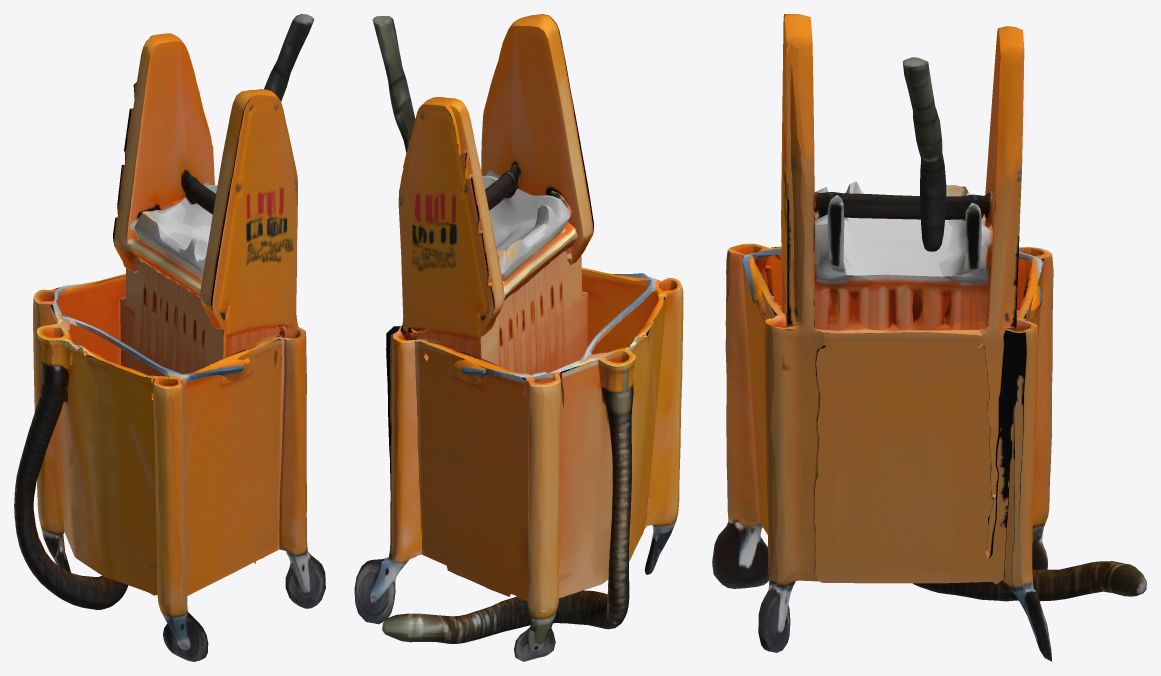
3 views of the same model, side by side, from view 1: azimuth 30°, elevation 25°; view 2: azimuth 150°, elevation 25°; view 3: azimuth 270°, elevation 25° (orthographic). The views are drawn at different scales.
Size of the model in its own units: 0.375 by 0.72 by 0.445.
Materials: 1 (1 with a texture image).
